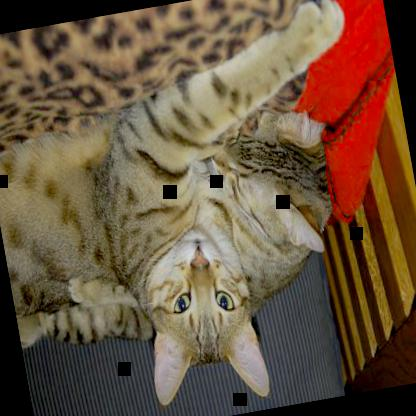cat: (0, 0, 406, 415), (0, 100, 353, 364)
